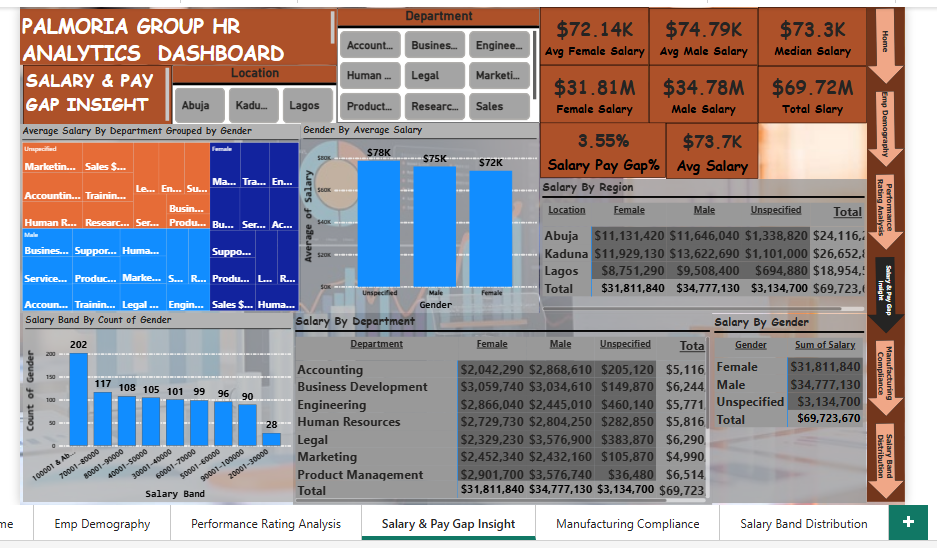

The dashboard page shown, as its layout file describes it:
{"tool":"powerbi","page":{"name":"Salary & Pay Gap Insight","canvas":[1920,1080],"ordinal":3},"visuals":[{"type":"textbox","box":[0,4.3,687.5,121.4],"z":0},{"type":"advancedSlicerVisual","fields":{"Values":["Employee Data.Location"]},"box":[329.6,125.8,357.8,132.3],"z":1000},{"type":"advancedSlicerVisual","fields":{"Values":["Employee Data.Department"]},"box":[687.5,2.7,439.8,249.4],"z":2000},{"type":"card","fields":{"Values":["Salary & Pay Gap Insights.Avg Male Salary"]},"box":[1364.1,2.2,236.4,123.6],"z":3000},{"type":"textbox","box":[6.5,125.8,323.1,130.1],"z":4000},{"type":"card","fields":{"Values":["Salary & Pay Gap Insights.Salary Pay Gap%"]},"box":[1127.7,249.4,273.3,121.4],"z":5000},{"type":"clusteredColumnChart","title":"Gender By Average Salary","fields":{"Category":["Employee Data.Gender"],"Y":["Avg(Employee Data.Salary)"]},"box":[609.4,251.6,516.1,412],"z":6000},{"type":"columnChart","title":"Salary Band By Count of Gender","fields":{"Y":["CountNonNull(Employee Data.Gender)"],"Category":["Employee Data.Salary Band"]},"box":[6.5,663.6,585.5,409.9],"z":7000},{"type":"pivotTable","title":"Salary By Gender","fields":{"Columns":["Employee Data.Gender"],"Values":["Sum(Employee Data.Salary)"],"Rows":["Employee Data.Gender"]},"box":[1501.7,665,335.2,410.3],"z":8000},{"type":"treemap","title":"Average Salary By Department Grouped by Gender","fields":{"Group":["Employee Data.Gender"],"Values":["Avg(Employee Data.Salary)"],"Details":["Employee Data.Department"]},"box":[0,253.7,609.4,409.9],"z":9000},{"type":"card","fields":{"Values":["Salary & Pay Gap Insights.Avg Female Salary"]},"box":[1127.7,0,236.4,125.8],"z":10000},{"type":"card","fields":{"Values":["Salary & Pay Gap Insights.Male Salary"]},"box":[1364.1,125.8,236.4,125.8],"z":11000},{"type":"card","fields":{"Values":["Salary & Pay Gap Insights.Female Salary"]},"box":[1127.7,125.8,236.4,125.8],"z":12000},{"type":"card","fields":{"Values":["Salary & Pay Gap Insights.Median Salary"]},"box":[1600.5,0,236.4,128],"z":13000},{"type":"card","fields":{"Values":["Salary & Pay Gap Insights.Total Slary"]},"box":[1600.5,128,236.4,123.6],"z":14000},{"type":"card","fields":{"Values":["Salary & Pay Gap Insights.Avg Salary"]},"box":[1401,251.6,199.5,121.4],"z":15000},{"type":"pivotTable","title":"Salary By Department","fields":{"Columns":["Employee Data.Gender"],"Rows":["Employee Data.Department"],"Values":["Sum(Employee Data.Salary)"]},"box":[592,663.6,908.7,416.4],"z":16000},{"type":"pivotTable","title":"Salary By Region","fields":{"Columns":["Employee Data.Gender"],"Rows":["Employee Data.Location"],"Values":["Sum(Employee Data.Salary)"]},"box":[1127.7,373,709.2,290.6],"z":17000},{"type":"pageNavigator","box":[1836.9,0,82.4,1073.5],"z":17002}]}

Visuals, with their boxes on the page's 1920x1080 design canvas (x1, y1, x2, y2). These are canvas units, not pixel positions in the 937x548 screenshot, which may show the page scaled, cropped or inside an application window:
textbox: 0 4 688 126
advancedSlicerVisual - Employee Data.Location: 330 126 687 258
advancedSlicerVisual - Employee Data.Department: 688 3 1127 252
card - Salary & Pay Gap Insights.Avg Male Salary: 1364 2 1600 126
textbox: 6 126 330 256
card - Salary & Pay Gap Insights.Salary Pay Gap%: 1128 249 1401 371
"Gender By Average Salary" clusteredColumnChart: 609 252 1126 664
"Salary Band By Count of Gender" columnChart: 6 664 592 1074
"Salary By Gender" pivotTable: 1502 665 1837 1075
"Average Salary By Department Grouped by Gender" treemap: 0 254 609 664
card - Salary & Pay Gap Insights.Avg Female Salary: 1128 0 1364 126
card - Salary & Pay Gap Insights.Male Salary: 1364 126 1600 252
card - Salary & Pay Gap Insights.Female Salary: 1128 126 1364 252
card - Salary & Pay Gap Insights.Median Salary: 1600 0 1837 128
card - Salary & Pay Gap Insights.Total Slary: 1600 128 1837 252
card - Salary & Pay Gap Insights.Avg Salary: 1401 252 1600 373
"Salary By Department" pivotTable: 592 664 1501 1080
"Salary By Region" pivotTable: 1128 373 1837 664
pageNavigator: 1837 0 1919 1074
